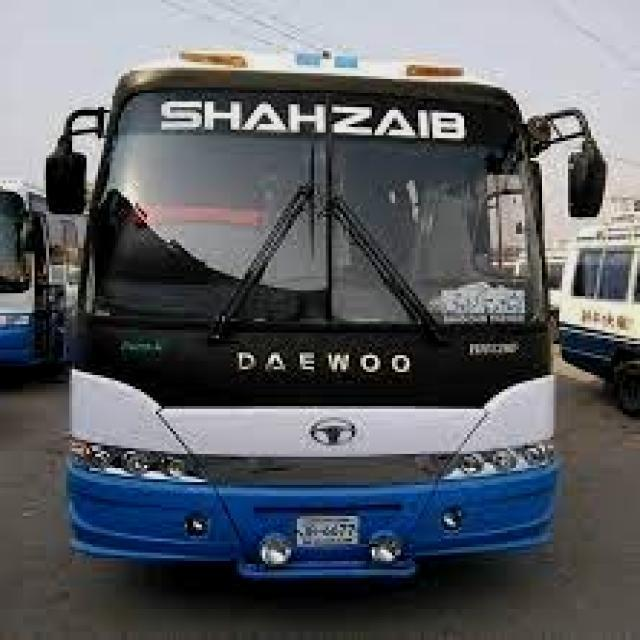Bus: (23, 32, 613, 583)
